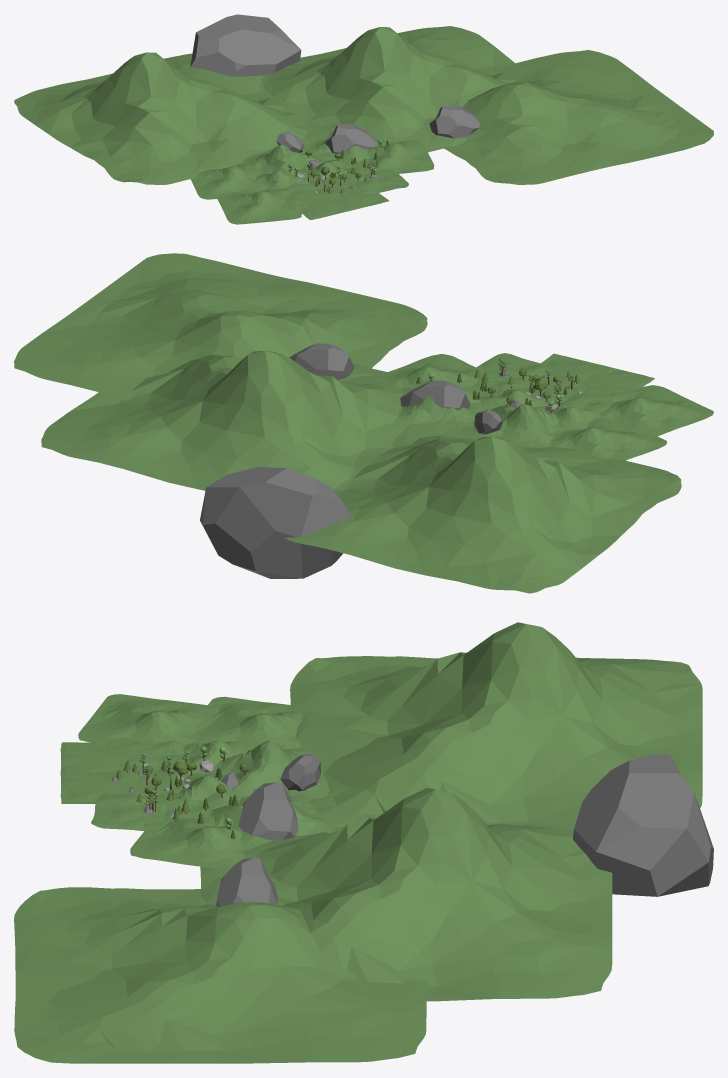
Rendered from Map.glb.
3 views of the same model, one above another, from view 1: azimuth 30°, elevation 25°; view 2: azimuth 150°, elevation 25°; view 3: azimuth 270°, elevation 25° (orthographic). The views are drawn at different scales.
Visible parts, largest first — view 1: Ground_02 (×2), Ground_02 (2) (×2), Ground_02 (1) (×2), Rock_05 (6), Ground_02 (6), Ground_02 (5), Ground_02 (4), Rock_05 (8), Rock_05 (3), Ground_01 (2), Ground_03 (1), Ground_02 (3) (+5 smaller); view 2: Ground_02 (×2), Ground_02 (2) (×2), Ground_02 (1) (×2), Rock_05 (6), Ground_02 (6), Ground_02 (5), Ground_02 (4), Ground_02 (3), Rock_05 (8), Rock_05 (3), Ground_01 (2), Ground_03 (1) (+4 smaller); view 3: Ground_02 (2) (×2), Ground_02 (×2), Ground_02 (1) (×2), Rock_05 (6), Ground_02 (6), Ground_02 (4), Ground_02 (5), Rock_05 (3), Ground_01 (2), Ground_03 (1), Rock_05 (8), Ground_02 (3) (+5 smaller).
Part boxes in pixels (<box>): Ground_02 (×2): <box>14,52,331,189</box>; Ground_02 (2) (×2): <box>242,50,713,184</box>; Ground_02 (1) (×2): <box>262,26,515,180</box>; Rock_05 (6): <box>190,14,301,76</box>; Ground_02 (6): <box>217,189,301,224</box>; Ground_02 (5): <box>190,163,267,199</box>; Ground_02 (4): <box>366,140,434,173</box>; Rock_05 (8): <box>429,104,479,138</box>; Rock_05 (3): <box>325,123,376,153</box>; Ground_01 (2): <box>345,171,408,194</box>; Ground_03 (1): <box>324,184,389,212</box>; Ground_02 (3): <box>302,131,391,162</box>; Ground_02 (×2): <box>284,402,681,593</box>; Ground_02 (2) (×2): <box>14,253,563,447</box>; Ground_02 (1) (×2): <box>41,350,548,490</box>; Rock_05 (6): <box>200,467,351,578</box>; Ground_02 (6): <box>600,385,713,436</box>; Ground_02 (5): <box>549,418,667,460</box>; Ground_02 (4): <box>375,354,478,388</box>; Ground_02 (3): <box>393,387,490,427</box>; Rock_05 (8): <box>289,343,354,379</box>; Rock_05 (3): <box>400,380,470,409</box>; Ground_01 (2): <box>472,353,551,387</box>; Ground_03 (1): <box>540,353,615,392</box>; Ground_02 (2) (×2): <box>14,740,426,1063</box>; Ground_02 (×2): <box>183,622,702,833</box>; Ground_02 (1) (×2): <box>176,773,612,1001</box>; Rock_05 (6): <box>573,754,713,896</box>; Ground_02 (6): <box>78,694,218,744</box>; Ground_02 (4): <box>130,818,244,869</box>; Ground_02 (5): <box>194,696,302,749</box>; Rock_05 (3): <box>239,782,298,840</box>; Ground_01 (2): <box>91,792,168,831</box>; Ground_03 (1): <box>60,766,143,803</box>; Rock_05 (8): <box>216,858,278,906</box>; Ground_02 (3): <box>210,789,335,850</box>.
Size of what is drawn, in the model's own units: 309 by 59.62 by 231.
1 material, 1 textured.
